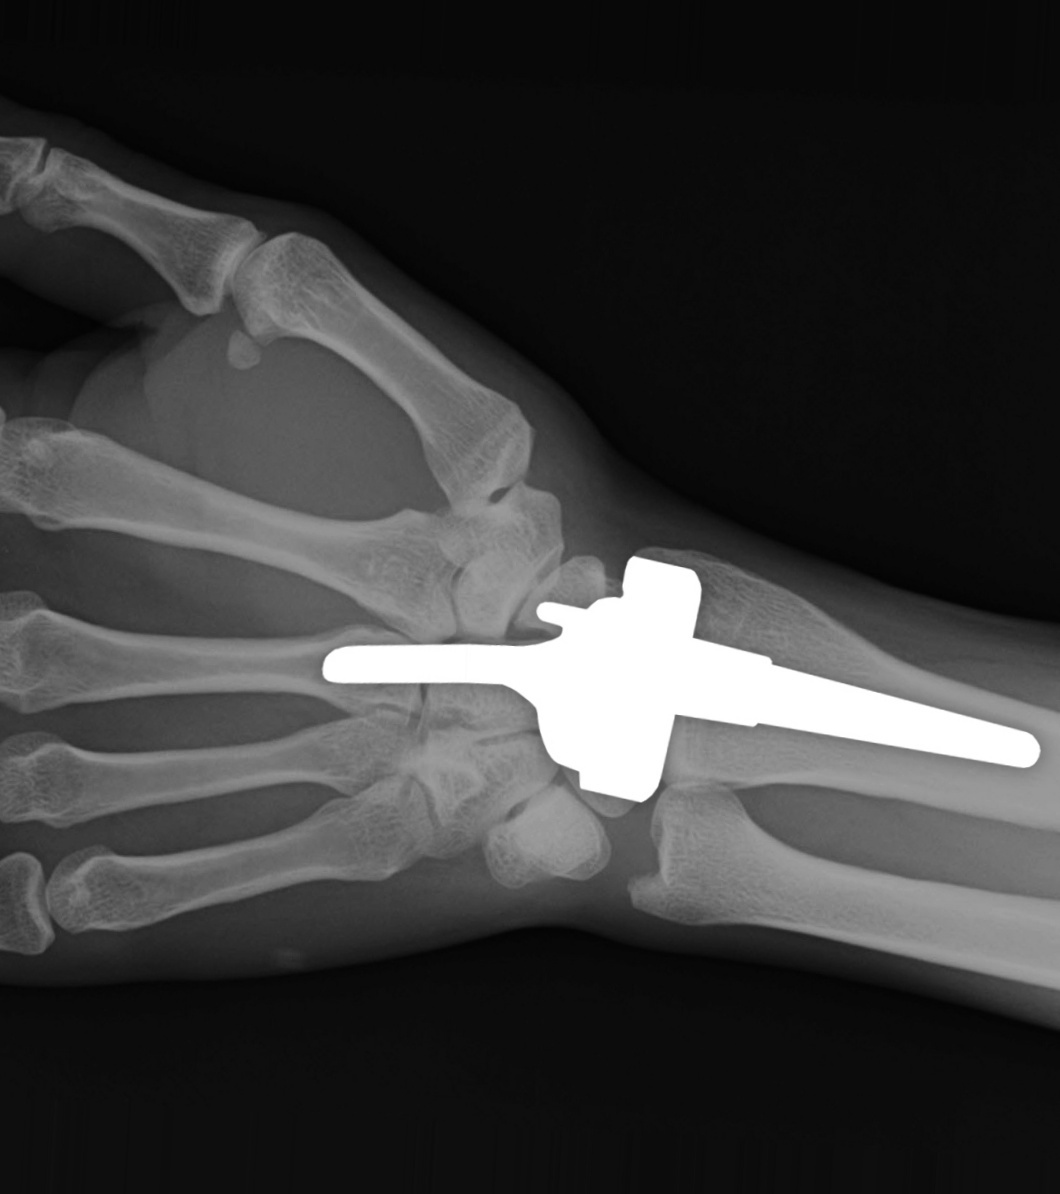Wrist-Biax-DePuuy: (304, 530, 1044, 836)
